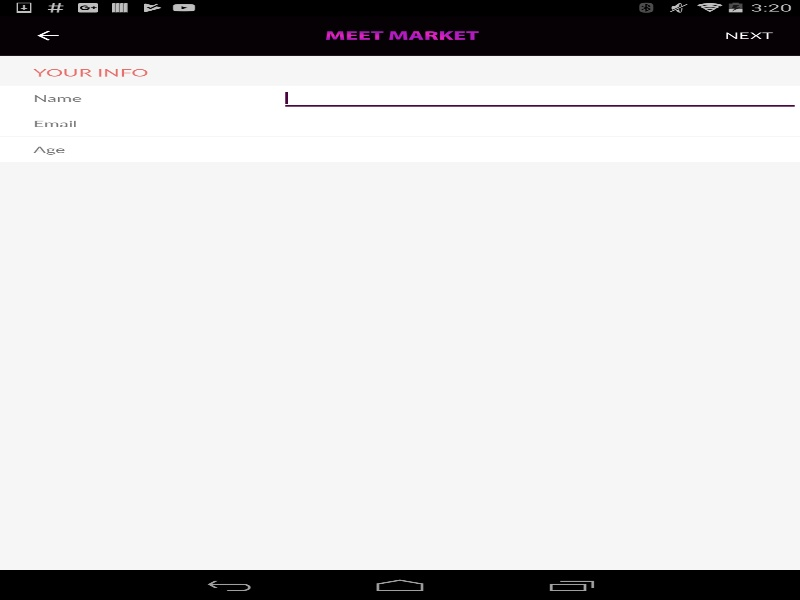Button: (10, 15, 85, 55)
Input: (280, 110, 800, 136), (280, 136, 800, 162), (280, 85, 800, 110)
